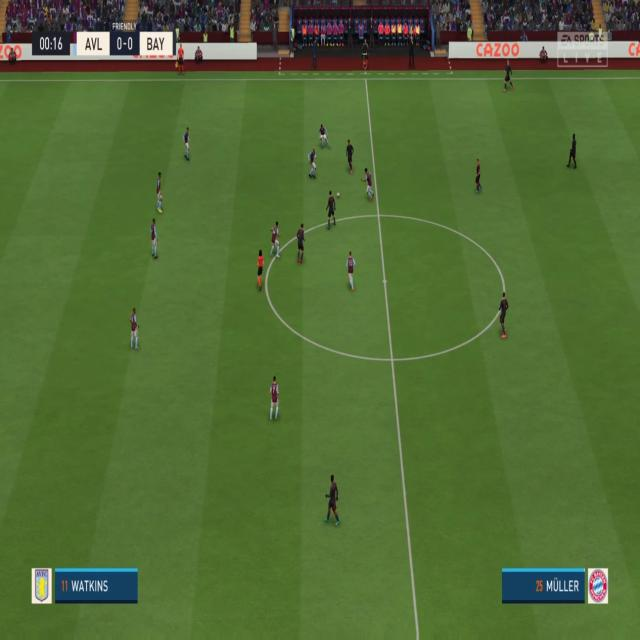Ball: (336, 193, 341, 198)
Referee: (256, 251, 266, 291)
Team-A: (324, 474, 341, 526), (499, 286, 509, 338), (567, 135, 580, 171), (296, 226, 308, 264), (501, 61, 515, 91), (327, 193, 338, 228), (345, 141, 356, 176), (319, 122, 331, 151), (474, 159, 484, 193)
Team-H: (128, 307, 140, 349), (361, 168, 375, 204), (150, 220, 162, 260), (270, 220, 282, 258), (270, 378, 280, 422), (155, 172, 165, 215), (346, 252, 356, 292), (183, 126, 193, 160), (308, 149, 318, 180)
